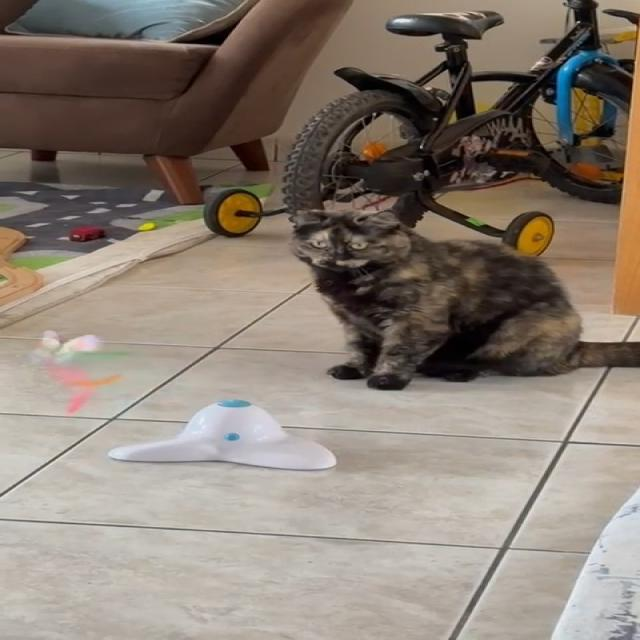authorized: (288, 207, 639, 390)
